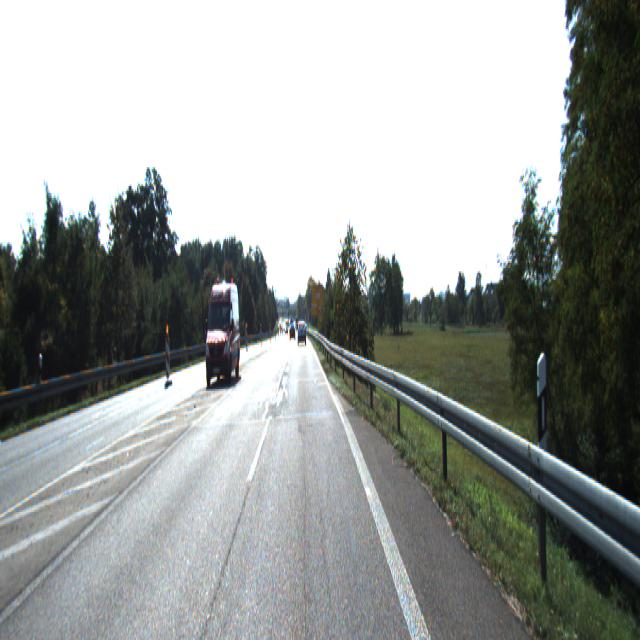Car: (204, 281, 240, 393), (298, 322, 306, 344)
